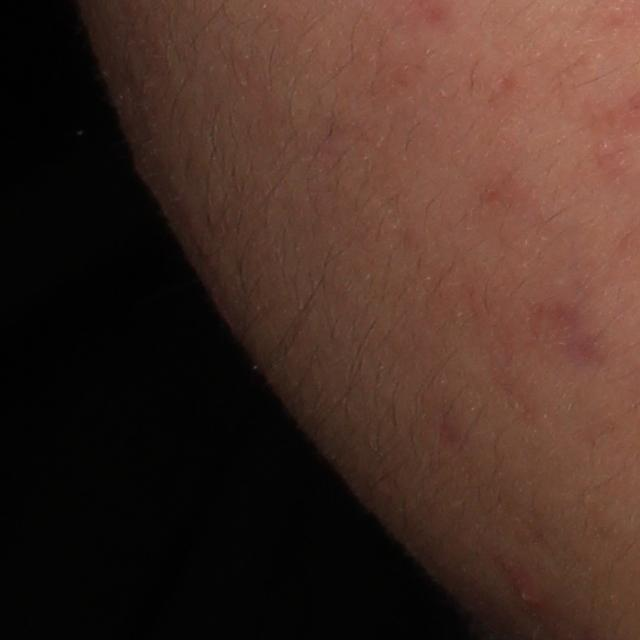papule: (505, 564, 555, 613)
